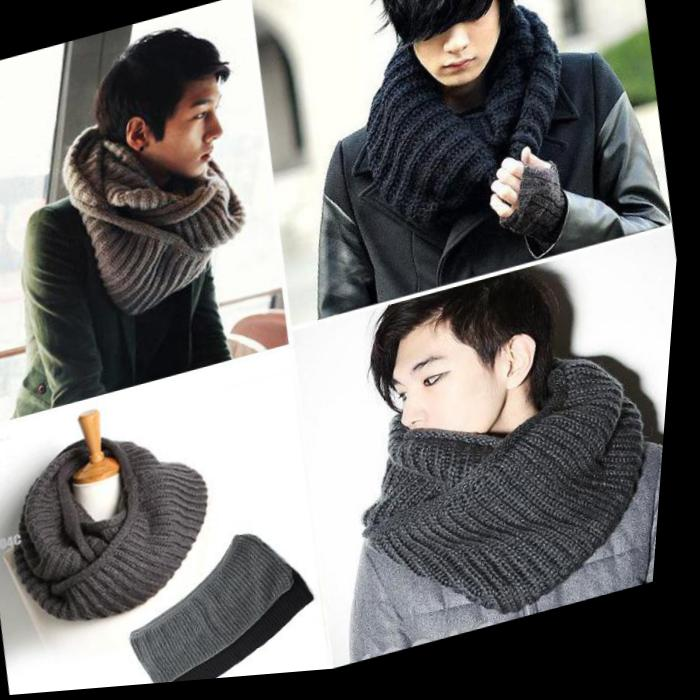NONE: (401, 1, 515, 108), (148, 87, 238, 193)
WRONG: (389, 344, 537, 493)
